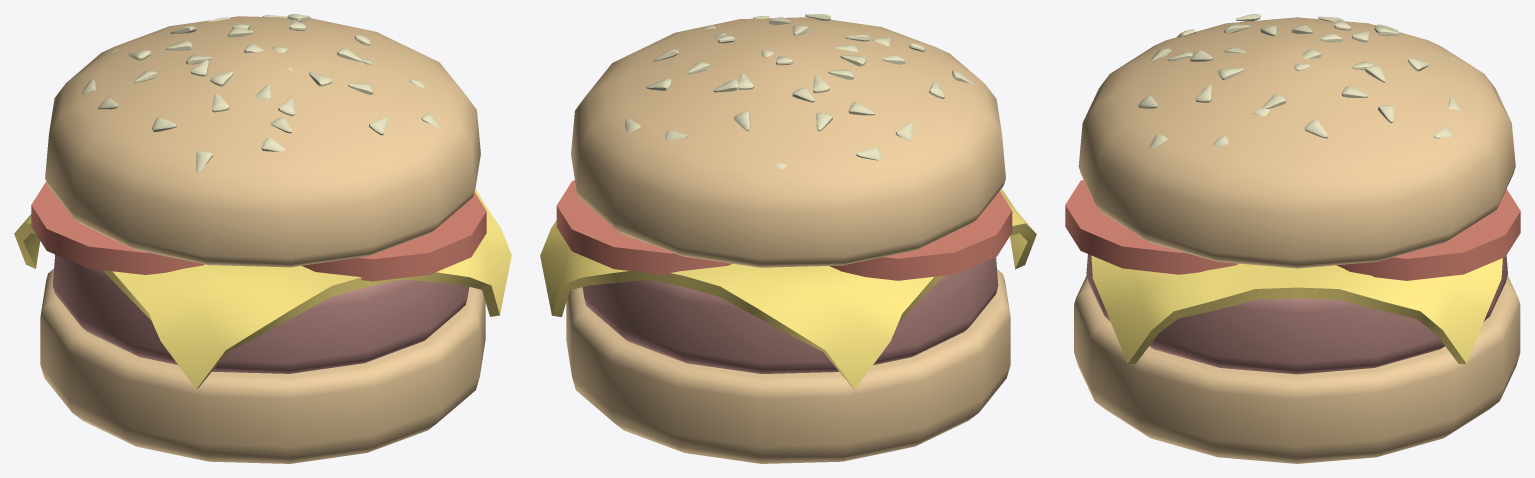
File: bruger.fbx
3 renders of one model, left to right at view 1: azimuth 30°, elevation 25°; view 2: azimuth 150°, elevation 25°; view 3: azimuth 270°, elevation 25°, orthographic.
Visible parts, largest first — view 1: Burger_1; view 2: Burger_1; view 3: Burger_1.
Boxes of the visible parts, <box> form: Burger_1: <box>14,14,511,463</box>; Burger_1: <box>540,14,1036,463</box>; Burger_1: <box>1065,14,1520,463</box>.
Size of the model in its own units: 214 by 165 by 208.
